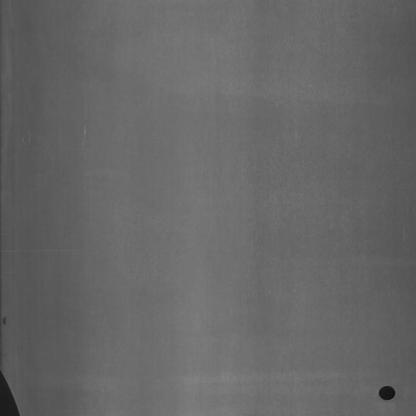crescent_gap: (0, 366, 24, 416)
punching_hole: (376, 382, 398, 406)
